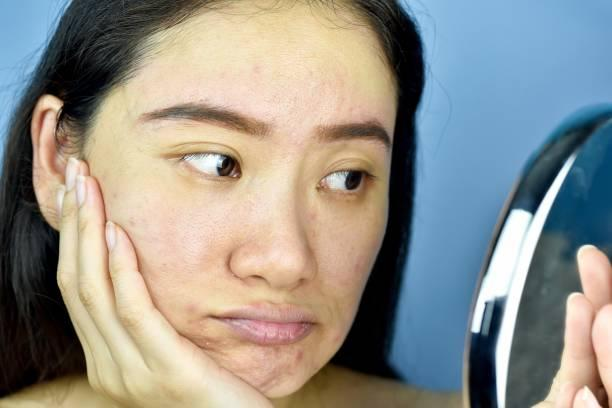Dry-Skin: (132, 186, 234, 315), (221, 33, 363, 105), (318, 218, 372, 298)
